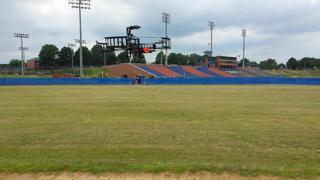UAV: (96, 25, 171, 59)
